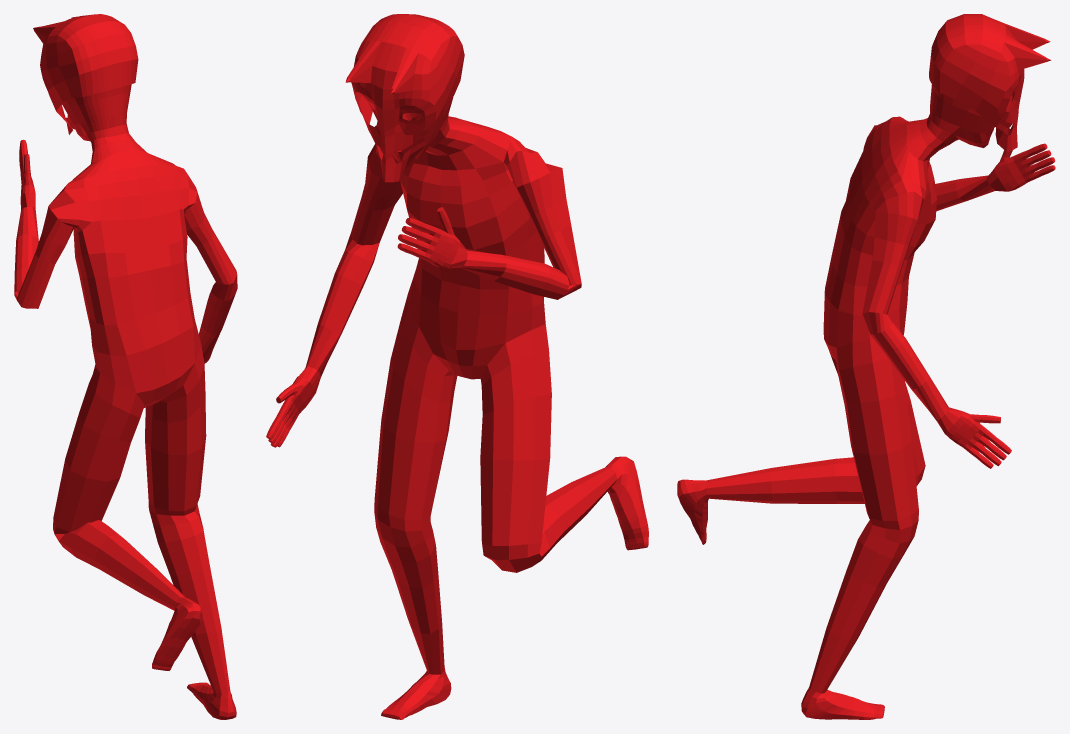
The model's file is correrE_000109.obj.
3 views of the same model, side by side, from view 1: azimuth 30°, elevation 25°; view 2: azimuth 150°, elevation 25°; view 3: azimuth 270°, elevation 25° (orthographic). The views are drawn at different scales.
Parts seen in each view (by area): view 1: Plane.002_Plane.001; view 2: Plane.002_Plane.001; view 3: Plane.002_Plane.001.
Boxes of the visible parts, x1=… form: Plane.002_Plane.001: x1=14, y1=14, x2=237, y2=719; Plane.002_Plane.001: x1=266, y1=14, x2=648, y2=719; Plane.002_Plane.001: x1=677, y1=14, x2=1055, y2=719.
Size of the model in its own units: 2.32 by 6.62 by 3.4.
